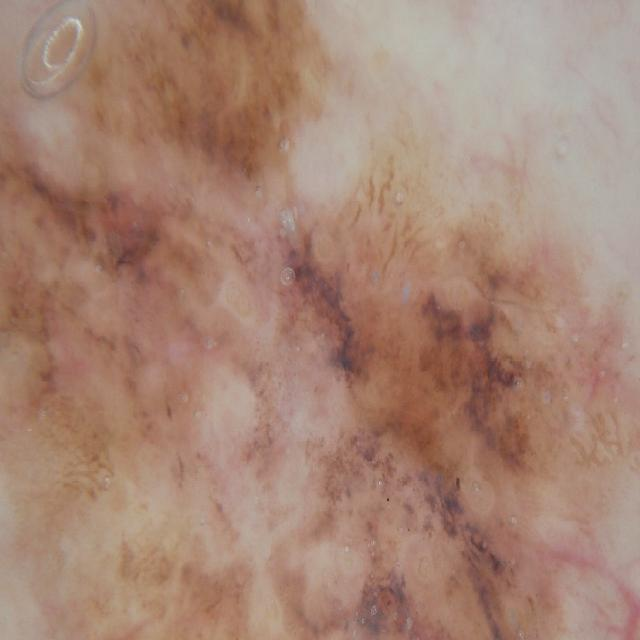Melanoma: (77, 144, 555, 640)
